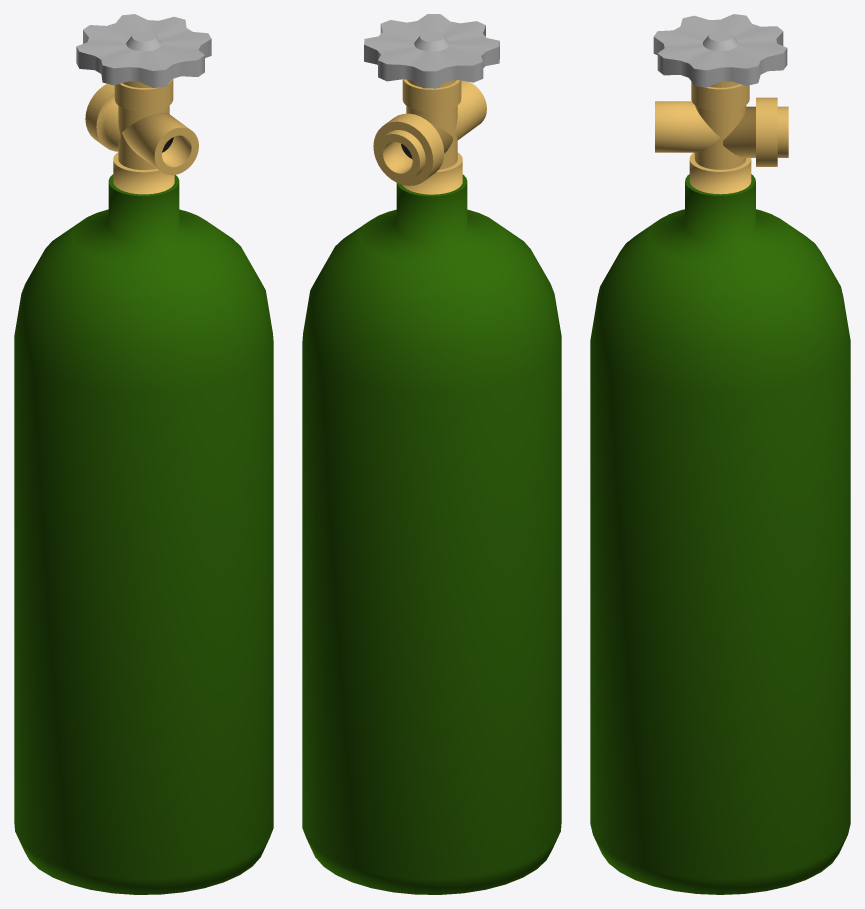
Rendered from Oxygen tank.fbx.
The picture shows the model from 3 angles, left to right: view 1: azimuth 30°, elevation 25°; view 2: azimuth 150°, elevation 25°; view 3: azimuth 270°, elevation 25°; orthographic projection.
Visible parts, largest first — view 1: Oxygen Tank FBX; view 2: Oxygen Tank FBX; view 3: Oxygen Tank FBX.
Boxes of the visible parts, box(x1,y1,x2,y2) form: Oxygen Tank FBX: box(14, 14, 273, 894); Oxygen Tank FBX: box(302, 14, 561, 894); Oxygen Tank FBX: box(590, 14, 850, 894).
Size of the model in its own units: 18.4 by 63.67 by 18.4.
